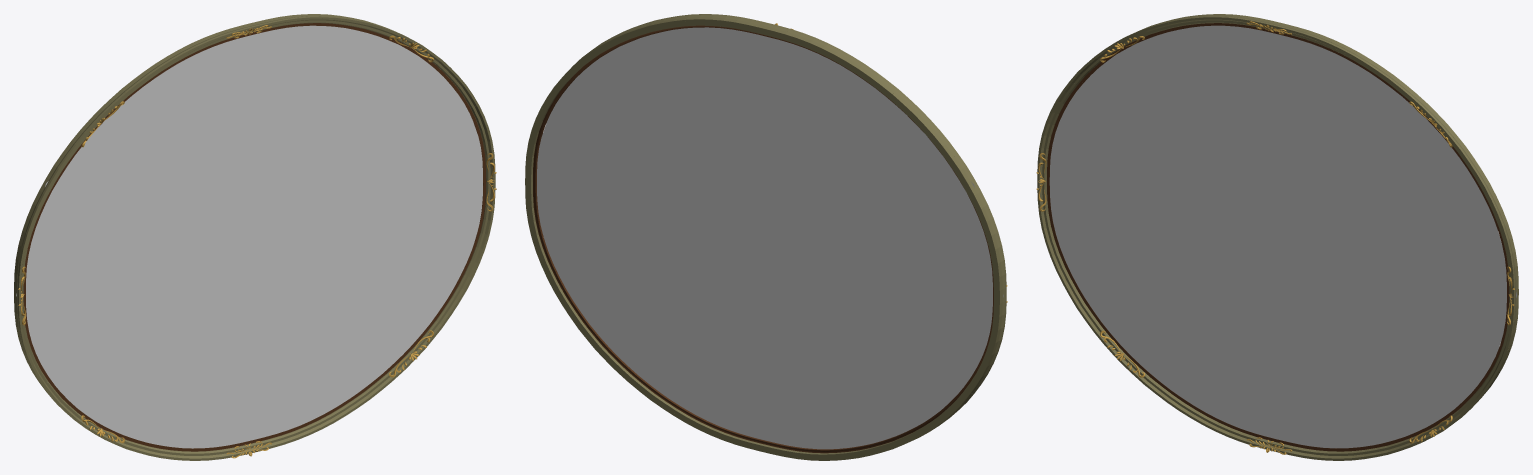
Rendered from frame002_l.glb.
3 views of the same model, side by side, from view 1: azimuth 30°, elevation 25°; view 2: azimuth 150°, elevation 25°; view 3: azimuth 330°, elevation 25° (orthographic).
Visible parts, largest first — view 1: canvas_平面, frame_Cube.003, frame_inner_Cube.001, moyou022; view 2: canvas_平面, frame_Cube.003, frame_inner_Cube.001; view 3: canvas_平面, frame_Cube.003, frame_inner_Cube.001, moyou022.
Boxes of the visible parts, <box> form: canvas_平面: <box>16,25,482,448</box>; frame_Cube.003: <box>14,14,495,460</box>; frame_inner_Cube.001: <box>23,23,485,451</box>; moyou022: <box>81,35,433,443</box>; canvas_平面: <box>537,27,1003,449</box>; frame_Cube.003: <box>525,14,1006,460</box>; frame_inner_Cube.001: <box>533,25,993,453</box>; canvas_平面: <box>1049,25,1516,448</box>; frame_Cube.003: <box>1037,14,1518,460</box>; frame_inner_Cube.001: <box>1047,23,1509,451</box>; moyou022: <box>1100,36,1452,443</box>.
Bounding box in the file's own units: 31.09 × 26.59 × 0.8159.
